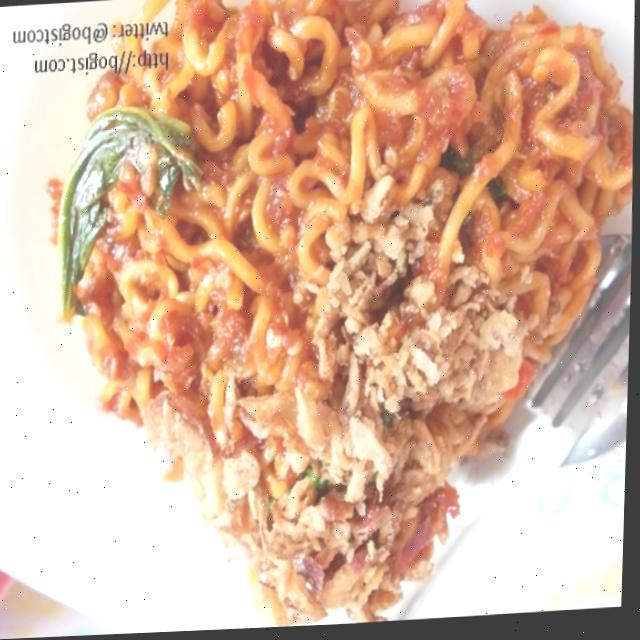面条主食: (0, 15, 637, 632)
